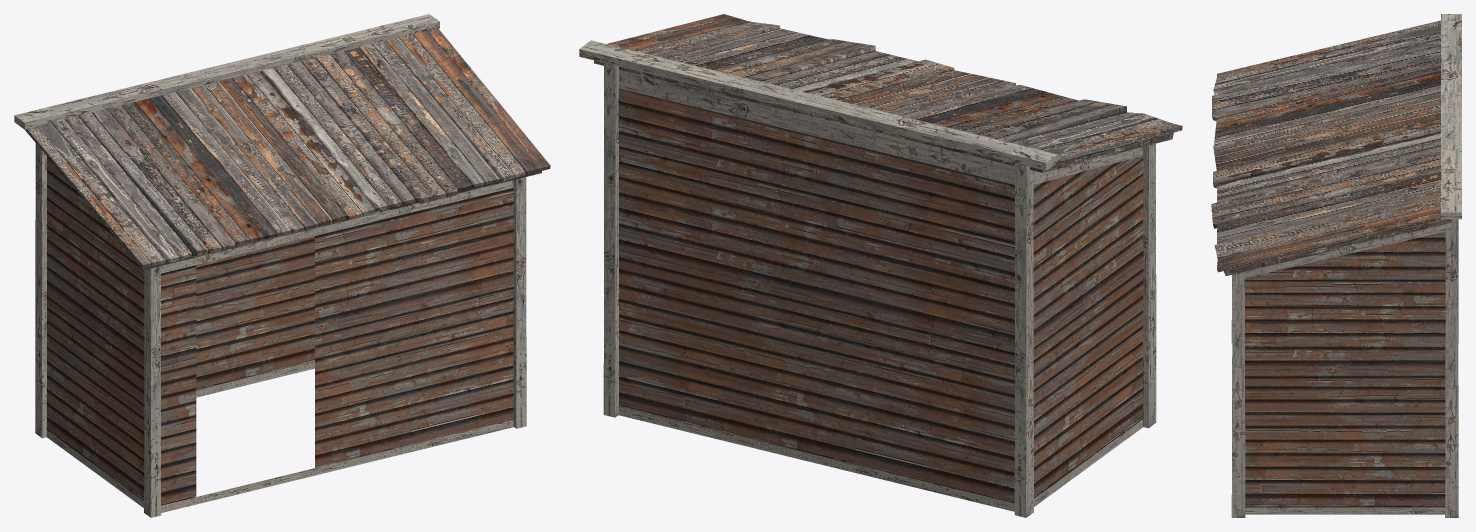
Rendered from Cabin_W4H3D1_v1_M2.gltf.
3 renders of one model, left to right at view 1: azimuth 30°, elevation 25°; view 2: azimuth 150°, elevation 25°; view 3: azimuth 270°, elevation 25°, orthographic. The views are drawn at different scales.
Visible parts, largest first — view 1: Cabin_W4H3D1_v1_M2(Clone); view 2: Cabin_W4H3D1_v1_M2(Clone); view 3: Cabin_W4H3D1_v1_M2(Clone).
Boxes of the visible parts, x1,y1,x2,y2 form: Cabin_W4H3D1_v1_M2(Clone): (14,14,550,517); Cabin_W4H3D1_v1_M2(Clone): (579,14,1182,517); Cabin_W4H3D1_v1_M2(Clone): (1211,14,1461,517).
Size of the model in its own units: 4.05 by 3 by 2.16.
Materials: 1 (1 with a texture image).
